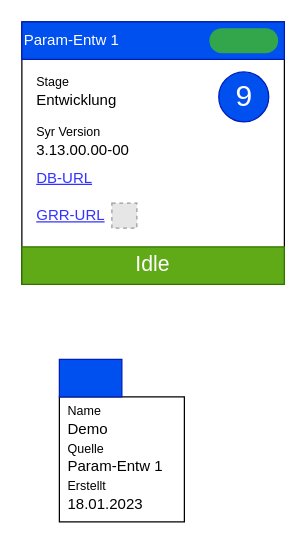
Some shapes in this 306 by 544 pixel diagram are drawn without their labels. Grey dashed boxes stand in for pictures. The shapes that lost their labels are listed below. From the top down, each one's centre as x and y in pixels, then its label:
At point 243,40: "online".
At point 90,377: "TP 9".
